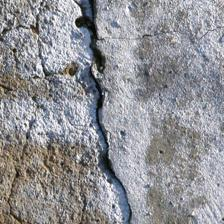Crack: (52, 144, 164, 180), (0, 112, 162, 135)
